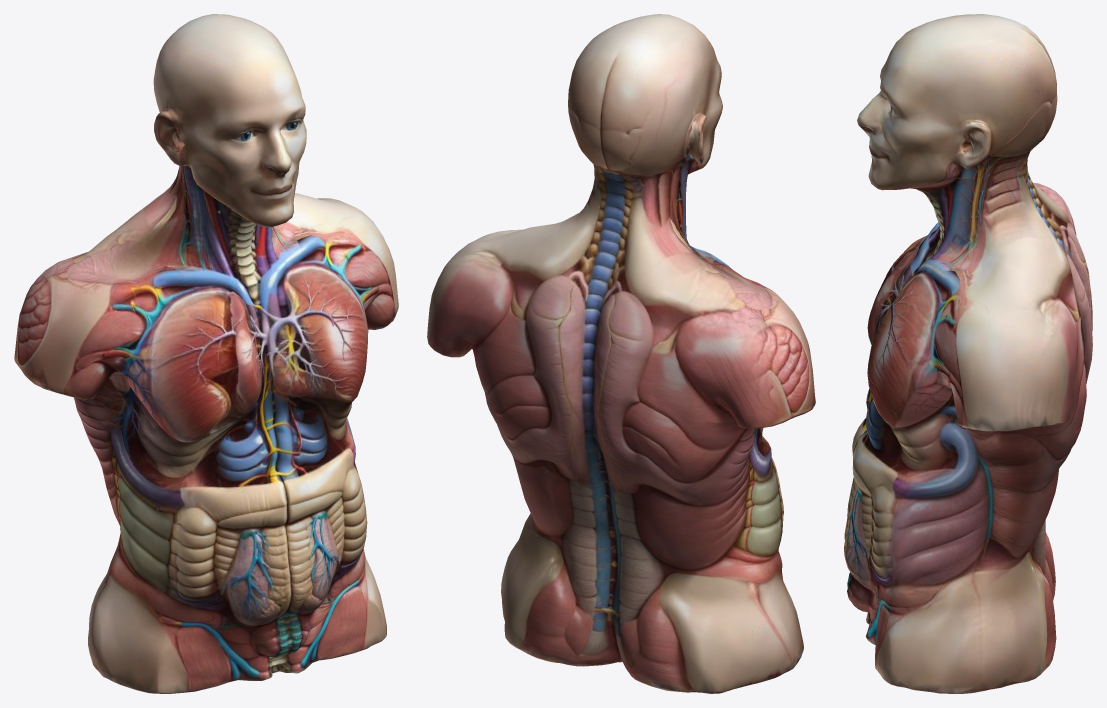
File: organs.glb
3 views of the same model, side by side, from view 1: azimuth 30°, elevation 25°; view 2: azimuth 150°, elevation 25°; view 3: azimuth 270°, elevation 25° (orthographic).
Parts seen in each view (by area): view 1: Object_4; view 2: Object_4; view 3: Object_4.
Boxes of the visible parts, x1,y1,x2,y2 form: Object_4: [14, 14, 398, 693]; Object_4: [427, 14, 815, 693]; Object_4: [844, 14, 1092, 693].
Size of the model in its own units: 1.05 by 1.7 by 0.6277.
1 material, 1 textured.
